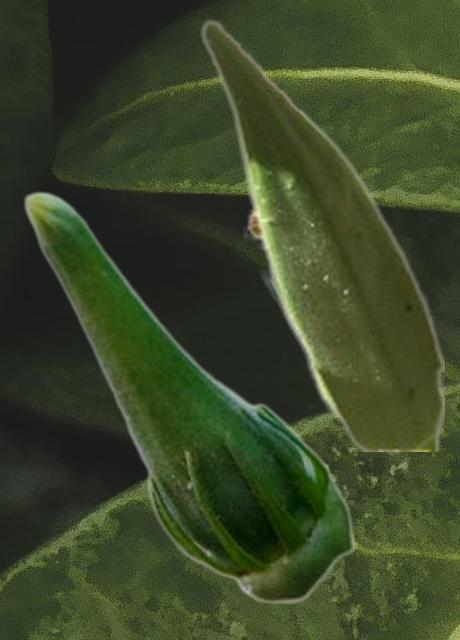okra: (22, 190, 355, 604), (199, 17, 443, 450)
